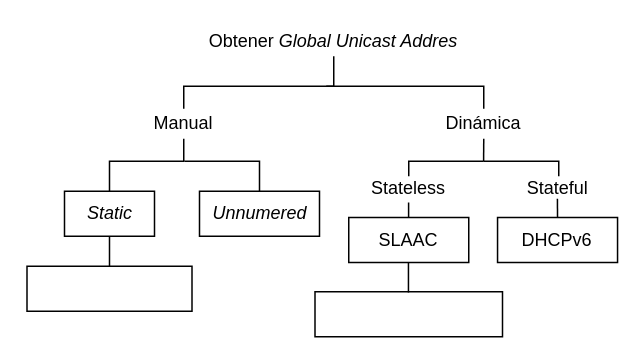
Some shapes in this 644 by 363 pixel diagram are drawn without their labels. Here are the shapes that lost their labels. From the top down, the box of each, then its label:
(26, 265, 192, 311): Static + EUI 64
(314, 290, 502, 337): SLAAC + DHCPv6
